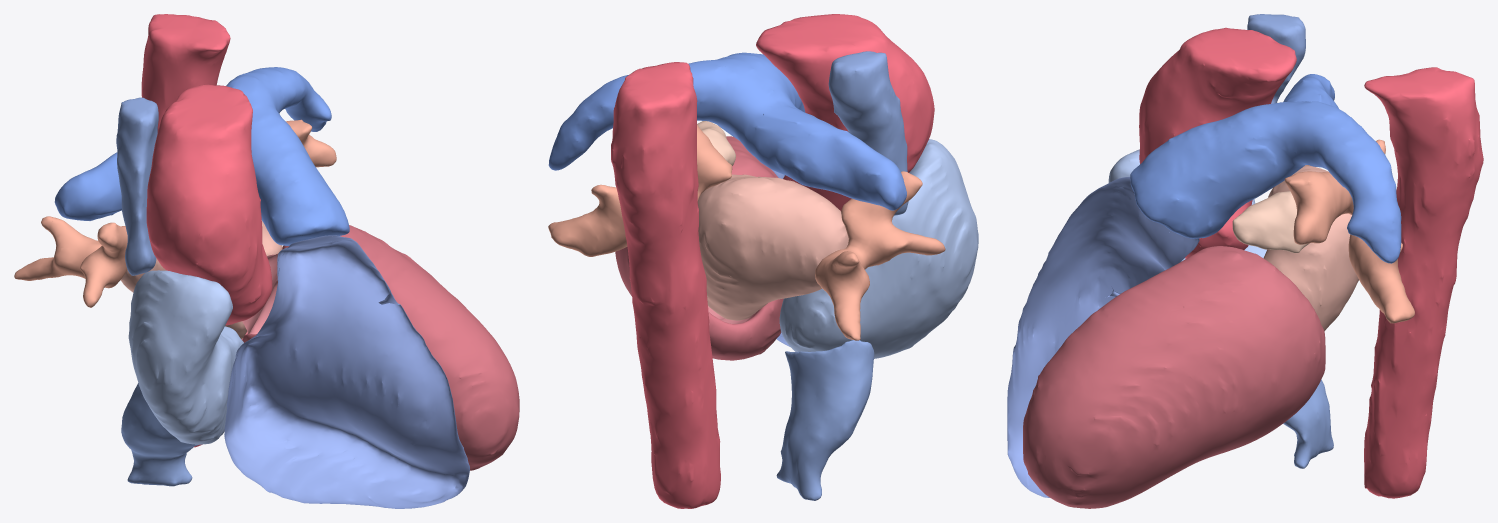
Rendered from heart_ar.glb.
3 renders of one model, left to right at view 1: azimuth 30°, elevation 25°; view 2: azimuth 150°, elevation 25°; view 3: azimuth 270°, elevation 25°, orthographic. The views are drawn at different scales.
Parts seen in each view (by area): view 1: heart_ventricle_right, aorta, heart_atrium_right, pulmonary_artery, heart_myocardium, pulmonary_vein, superior_vena_cava, inferior_vena_cava, heart_atrium_left, heart_ventricle_left; view 2: aorta, pulmonary_artery, heart_atrium_right, heart_atrium_left, pulmonary_vein, inferior_vena_cava, superior_vena_cava, heart_myocardium, atrial_appendage_left; view 3: heart_myocardium, aorta, pulmonary_artery, heart_ventricle_right, pulmonary_vein, heart_atrium_left, atrial_appendage_left, inferior_vena_cava, superior_vena_cava, heart_atrium_right.
Part boxes in pixels (<box>): heart_ventricle_right: <box>224,235,469,508</box>; aorta: <box>141,14,272,447</box>; heart_atrium_right: <box>128,270,243,444</box>; pulmonary_artery: <box>54,67,349,245</box>; heart_myocardium: <box>241,225,519,470</box>; pulmonary_vein: <box>14,119,336,307</box>; superior_vena_cava: <box>116,97,158,275</box>; inferior_vena_cava: <box>121,383,198,486</box>; heart_atrium_left: <box>121,220,282,339</box>; heart_ventricle_left: <box>242,253,277,334</box>; aorta: <box>611,14,934,508</box>; pulmonary_artery: <box>548,52,906,210</box>; heart_atrium_right: <box>779,139,978,358</box>; heart_atrium_left: <box>697,174,848,320</box>; pulmonary_vein: <box>548,124,945,340</box>; inferior_vena_cava: <box>776,340,874,500</box>; superior_vena_cava: <box>828,51,908,215</box>; heart_myocardium: <box>615,136,783,360</box>; atrial_appendage_left: <box>697,121,735,165</box>; heart_myocardium: <box>1023,246,1325,508</box>; aorta: <box>1139,27,1483,498</box>; pulmonary_artery: <box>1130,74,1401,263</box>; heart_ventricle_right: <box>1007,176,1199,497</box>; pulmonary_vein: <box>1284,139,1414,323</box>; heart_atrium_left: <box>1263,165,1358,330</box>; atrial_appendage_left: <box>1232,191,1309,253</box>; inferior_vena_cava: <box>1283,379,1333,468</box>; superior_vena_cava: <box>1247,14,1305,103</box>; heart_atrium_right: <box>1108,149,1266,261</box>.
Size of the model in its own units: 0.1237 by 0.1366 by 0.1403.
